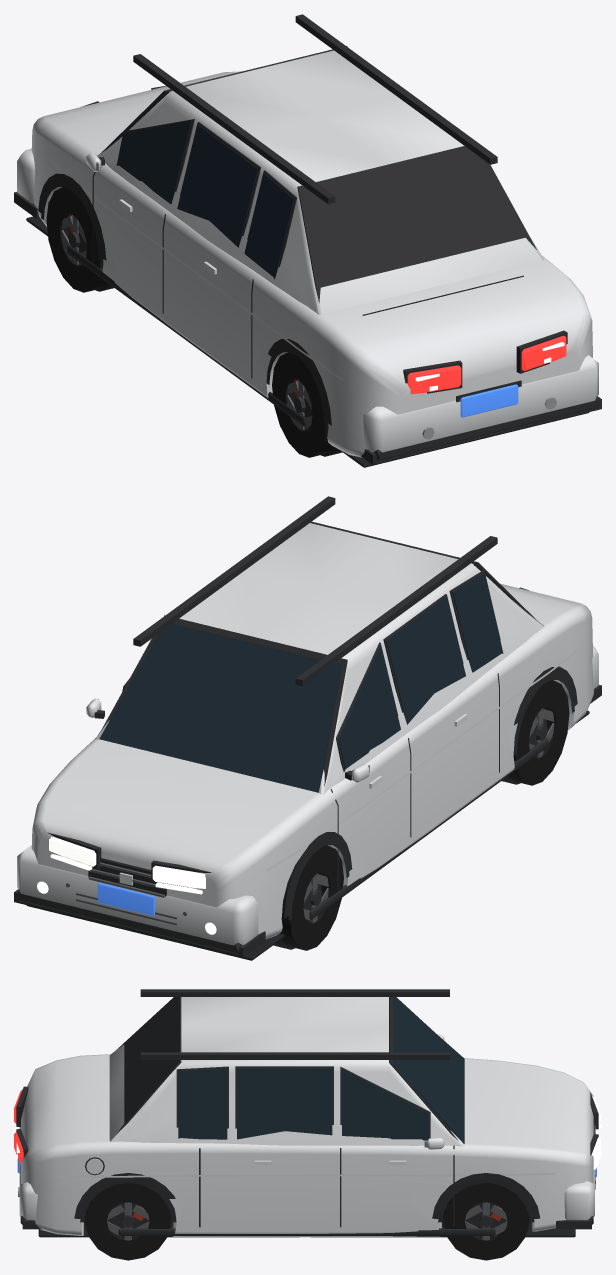
File: car_suv_urban_white.glb
The picture shows the model from 3 angles, top to bottom: view 1: azimuth 30°, elevation 25°; view 2: azimuth 150°, elevation 25°; view 3: azimuth 270°, elevation 25°; orthographic projection. The views are drawn at different scales.
Visible parts, largest first — view 1: Body, Trim, Glass, Wheel_RL, Wheel_FL, Lights, Plate_R; view 2: Body, Glass, Trim, Wheel_FL, Wheel_RL, Lights, Plate_F; view 3: Body, Glass, Trim, Wheel_FR, Wheel_RR, Lights.
Boxes of the visible parts, <box> form: Body: <box>17,50,598,457</box>; Trim: <box>14,14,601,467</box>; Glass: <box>96,91,294,279</box>; Wheel_RL: <box>272,352,334,457</box>; Wheel_FL: <box>46,187,108,292</box>; Lights: <box>407,335,566,393</box>; Plate_R: <box>460,384,518,417</box>; Body: <box>17,523,598,945</box>; Glass: <box>98,564,503,792</box>; Trim: <box>14,496,601,960</box>; Wheel_FL: <box>280,845,343,950</box>; Wheel_RL: <box>507,680,569,785</box>; Lights: <box>37,836,216,934</box>; Plate_F: <box>97,882,155,915</box>; Body: <box>19,997,594,1237</box>; Glass: <box>171,997,464,1147</box>; Trim: <box>16,989,598,1237</box>; Wheel_FR: <box>443,1183,529,1260</box>; Wheel_RR: <box>85,1183,171,1260</box>; Lights: <box>14,1090,601,1169</box>.
Bounding box in the file's own units: 2.13 × 1.79 × 4.93.
